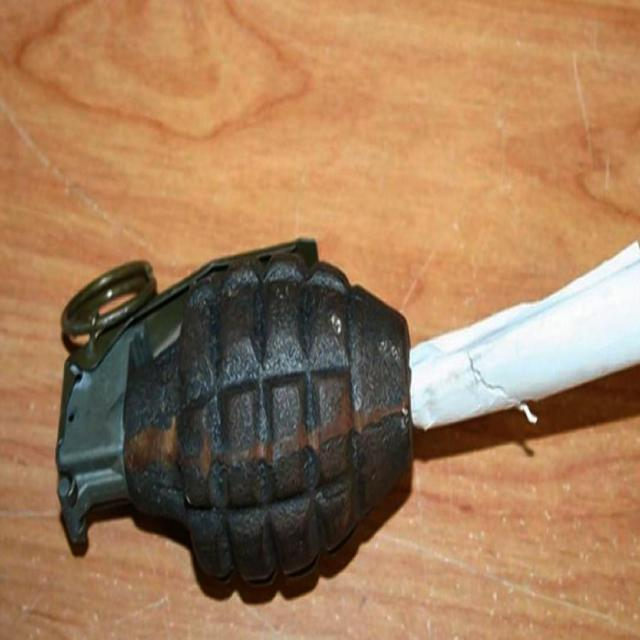grenade: (58, 235, 414, 588)
